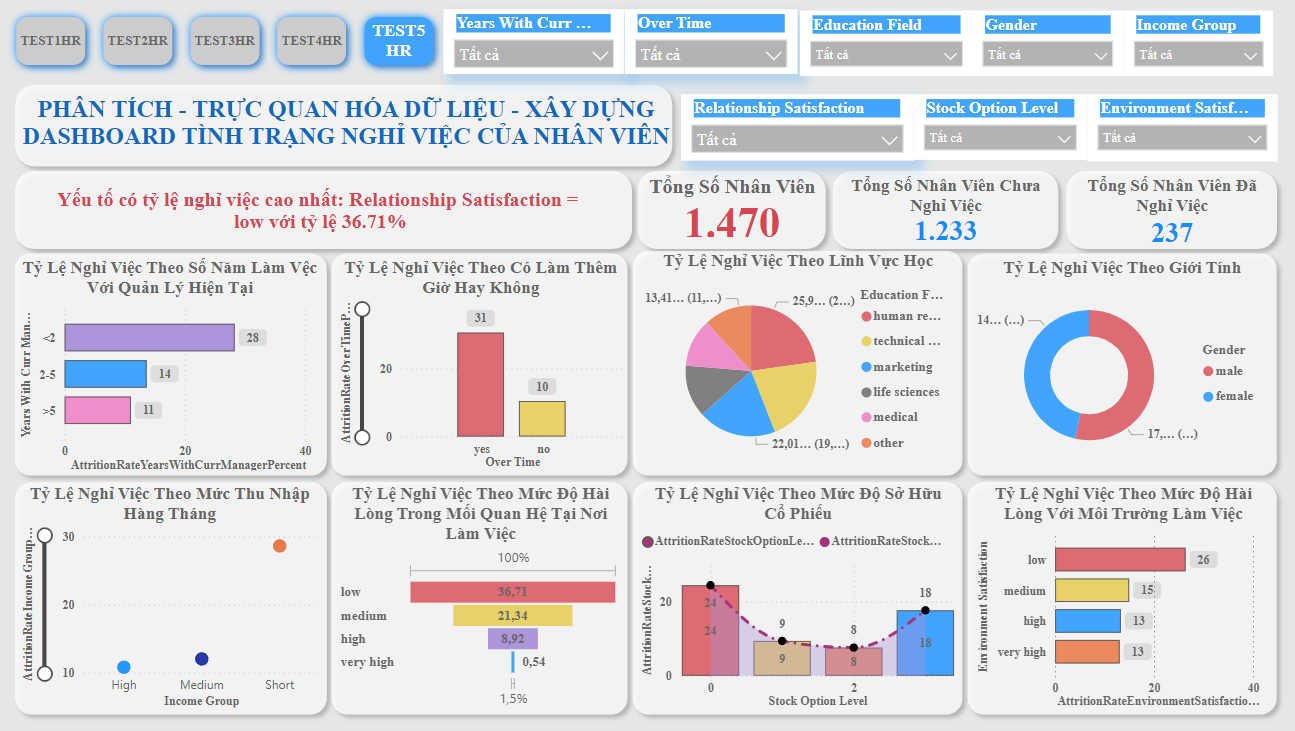

Layout of this report page (visuals, bound fields, positions):
{"tool":"powerbi","page":{"name":"TEST5HR","canvas":[1280,720],"ordinal":4},"visuals":[{"type":"shape","box":[0,470,329.8,250.6],"z":0},{"type":"shape","box":[0,72.7,675.2,100],"z":1000},{"type":"textbox","box":[4.9,88,670.1,70.9],"z":2000},{"type":"pageNavigator","box":[1.3,5.2,436.3,66.2],"z":3000},{"type":"shape","box":[0,158.8,635,96.2],"z":4000},{"type":"card","fields":{"Values":["Employee-turnover (3).HighestAttritionFactorTEST5HR"]},"box":[10.4,172.7,609,70.1],"z":5000},{"type":"shape","box":[622.5,158.8,206.2,96.2],"z":6000},{"type":"card","title":"Tổng Số Nhân Viên","fields":{"Values":["All Measures.Total Emp"]},"box":[635,172.5,182.5,66.2],"z":7000},{"type":"shape","box":[817.5,158.8,243.8,96.2],"z":8000},{"type":"shape","box":[1051.2,158.8,228.8,96.2],"z":9000},{"type":"card","title":"Tổng Số Nhân Viên Chưa Nghỉ Việc","fields":{"Values":["All Measures.ChuaNghiViec"]},"box":[838.8,172.5,202.5,70],"z":10000},{"type":"card","title":"Tổng Số Nhân Viên Đã Nghỉ Việc","fields":{"Values":["All Measures.DaNghiViec"]},"box":[1061.2,172.5,210,75],"z":11000},{"type":"shape","box":[0,241.5,329.8,240.2],"z":12000},{"type":"shape","box":[316.8,241.5,314.2,240.2],"z":13000},{"type":"shape","box":[316.8,470,314.2,250.6],"z":14000},{"type":"shape","box":[618.1,238.9,348,242.8],"z":15000},{"type":"shape","box":[618.1,470,348,250.6],"z":16000},{"type":"shape","box":[953.1,241.5,327.2,240.2],"z":17000},{"type":"shape","box":[953.1,470,327.2,250.6],"z":18000},{"type":"slicer","fields":{"Values":["Employee-turnover (3).Years With Curr Manager Group"]},"box":[437.6,6.5,180.5,64.9],"z":19000},{"type":"slicer","fields":{"Values":["Employee-turnover (3).Over Time"]},"box":[619.4,6.5,172.7,64.9],"z":20000},{"type":"slicer","fields":{"Values":["Employee-turnover (3).Relationship Satisfaction"]},"box":[675.2,90.9,232.4,66.2],"z":21000},{"type":"clusteredBarChart","title":"Tỷ Lệ Nghỉ Việc Theo Số Năm Làm Vệc Với Quản Lý Hiện Tại","fields":{"Category":["Employee-turnover (3).Years With Curr Manager Group"],"Y":["Employee-turnover (3).AttritionRateYearsWithCurrManagerPercent"]},"box":[10.4,254.5,307.7,218.1],"z":22000},{"type":"clusteredColumnChart","title":"Tỷ Lệ Nghỉ Việc Theo Có Làm Thêm Giờ Hay Không","fields":{"Category":["Employee-turnover (3).Over Time"],"Y":["Employee-turnover (3).AttritionRateOverTimePercent"]},"box":[327.2,254.5,294.7,215.5],"z":23000},{"type":"pieChart","title":"Tỷ Lệ Nghỉ Việc Theo Lĩnh Vực Học","fields":{"Category":["Employee-turnover (3).Education Field"],"Y":["Employee-turnover (3).AttritionRateEducationFieldPercent"]},"box":[631,248,322,222],"z":24000},{"type":"scatterChart","title":"Tỷ Lệ Nghỉ Việc Theo Mức Thu Nhập Hàng Tháng","fields":{"X":["Employee-turnover (3).Income Group"],"Y":["Employee-turnover (3).AttritionRateIncomeGroupPercent"]},"box":[10.4,481.7,307.7,228.5],"z":25000},{"type":"funnel","title":"Tỷ Lệ Nghỉ Việc Theo Mức Độ Hài Lòng Trong Mối Quan Hệ Tại Nơi Làm Việc ","fields":{"Category":["Employee-turnover (3).Relationship Satisfaction"],"Y":["Employee-turnover (3).AttritionRateRelationshipSatisfactionPercent"]},"box":[329.8,481.7,289.6,228.5],"z":26000},{"type":"donutChart","title":"Tỷ Lệ Nghỉ Việc Theo Giới Tính ","fields":{"Category":["Employee-turnover (3).Gender"],"Y":["Employee-turnover (3).AttritionRateGenderPercent"]},"box":[964.7,254.5,302.5,215.5],"z":27000},{"type":"lineClusteredColumnComboChart","title":"Tỷ Lệ Nghỉ Việc Theo Mức Độ Sở Hữu Cổ Phiếu","fields":{"Category":["Employee-turnover (3).Stock Option Level"],"Y":["Employee-turnover (3).AttritionRateStockOptionLevelPercent"],"Y2":["Employee-turnover (3).AttritionRateStockOptionLevelPercent"]},"box":[631,481.7,322,228.5],"z":28000},{"type":"clusteredBarChart","title":"Tỷ Lệ Nghỉ Việc Theo Mức Độ Hài Lòng Với Môi Trường Làm Việc","fields":{"Category":["Employee-turnover (3).Environment Satisfaction"],"Y":["Employee-turnover (3).AttritionRateEnvironmentSatisfactionPercent"]},"box":[967.3,481.7,299.9,228.5],"z":29000},{"type":"slicer","fields":{"Values":["Employee-turnover (3).Education Field"]},"box":[793.2,7,173.5,65.7],"z":30000},{"type":"slicer","fields":{"Values":["Employee-turnover (3).Gender"]},"box":[966.6,7,151.1,65.7],"z":31000},{"type":"slicer","fields":{"Values":["Employee-turnover (3).Income Group"]},"box":[1117.7,7,149.7,65.7],"z":32000},{"type":"slicer","fields":{"Values":["Employee-turnover (3).Stock Option Level"]},"box":[907.9,90.9,173.5,65.7],"z":33000},{"type":"slicer","fields":{"Values":["Employee-turnover (3).Environment Satisfaction"]},"box":[1081.4,90.9,190.3,67.1],"z":34000}]}

Visuals, with their boxes in screenshot pixels (x1, y1, x2, y2), scaled from the page's 1280x720 canvas onto the 1295x731 screenshot:
shape: [left=0, top=477, right=334, bottom=730]
shape: [left=0, top=74, right=683, bottom=175]
textbox: [left=5, top=89, right=683, bottom=161]
pageNavigator: [left=1, top=5, right=443, bottom=72]
shape: [left=0, top=161, right=642, bottom=259]
card - Employee-turnover (3).HighestAttritionFactorTEST5HR: [left=11, top=175, right=627, bottom=247]
shape: [left=630, top=161, right=838, bottom=259]
"Tổng Số Nhân Viên" card: [left=642, top=175, right=827, bottom=242]
shape: [left=827, top=161, right=1074, bottom=259]
shape: [left=1064, top=161, right=1294, bottom=259]
"Tổng Số Nhân Viên Chưa Nghỉ Việc" card: [left=849, top=175, right=1054, bottom=246]
"Tổng Số Nhân Viên Đã Nghỉ Việc" card: [left=1074, top=175, right=1286, bottom=251]
shape: [left=0, top=245, right=334, bottom=489]
shape: [left=321, top=245, right=638, bottom=489]
shape: [left=321, top=477, right=638, bottom=730]
shape: [left=625, top=243, right=977, bottom=489]
shape: [left=625, top=477, right=977, bottom=730]
shape: [left=964, top=245, right=1294, bottom=489]
shape: [left=964, top=477, right=1294, bottom=730]
slicer - Employee-turnover (3).Years With Curr Manager Group: [left=443, top=7, right=625, bottom=72]
slicer - Employee-turnover (3).Over Time: [left=627, top=7, right=801, bottom=72]
slicer - Employee-turnover (3).Relationship Satisfaction: [left=683, top=92, right=918, bottom=160]
"Tỷ Lệ Nghỉ Việc Theo Số Năm Làm Vệc Với Quản Lý Hiện Tại" clusteredBarChart: [left=11, top=258, right=322, bottom=480]
"Tỷ Lệ Nghỉ Việc Theo Có Làm Thêm Giờ Hay Không" clusteredColumnChart: [left=331, top=258, right=629, bottom=477]
"Tỷ Lệ Nghỉ Việc Theo Lĩnh Vực Học" pieChart: [left=638, top=252, right=964, bottom=477]
"Tỷ Lệ Nghỉ Việc Theo Mức Thu Nhập Hàng Tháng" scatterChart: [left=11, top=489, right=322, bottom=721]
"Tỷ Lệ Nghỉ Việc Theo Mức Độ Hài Lòng Trong Mối Quan Hệ Tại Nơi Làm Việc " funnel: [left=334, top=489, right=627, bottom=721]
"Tỷ Lệ Nghỉ Việc Theo Giới Tính " donutChart: [left=976, top=258, right=1282, bottom=477]
"Tỷ Lệ Nghỉ Việc Theo Mức Độ Sở Hữu Cổ Phiếu" lineClusteredColumnComboChart: [left=638, top=489, right=964, bottom=721]
"Tỷ Lệ Nghỉ Việc Theo Mức Độ Hài Lòng Với Môi Trường Làm Việc" clusteredBarChart: [left=979, top=489, right=1282, bottom=721]
slicer - Employee-turnover (3).Education Field: [left=802, top=7, right=978, bottom=74]
slicer - Employee-turnover (3).Gender: [left=978, top=7, right=1131, bottom=74]
slicer - Employee-turnover (3).Income Group: [left=1131, top=7, right=1282, bottom=74]
slicer - Employee-turnover (3).Stock Option Level: [left=919, top=92, right=1094, bottom=159]
slicer - Employee-turnover (3).Environment Satisfaction: [left=1094, top=92, right=1287, bottom=160]
